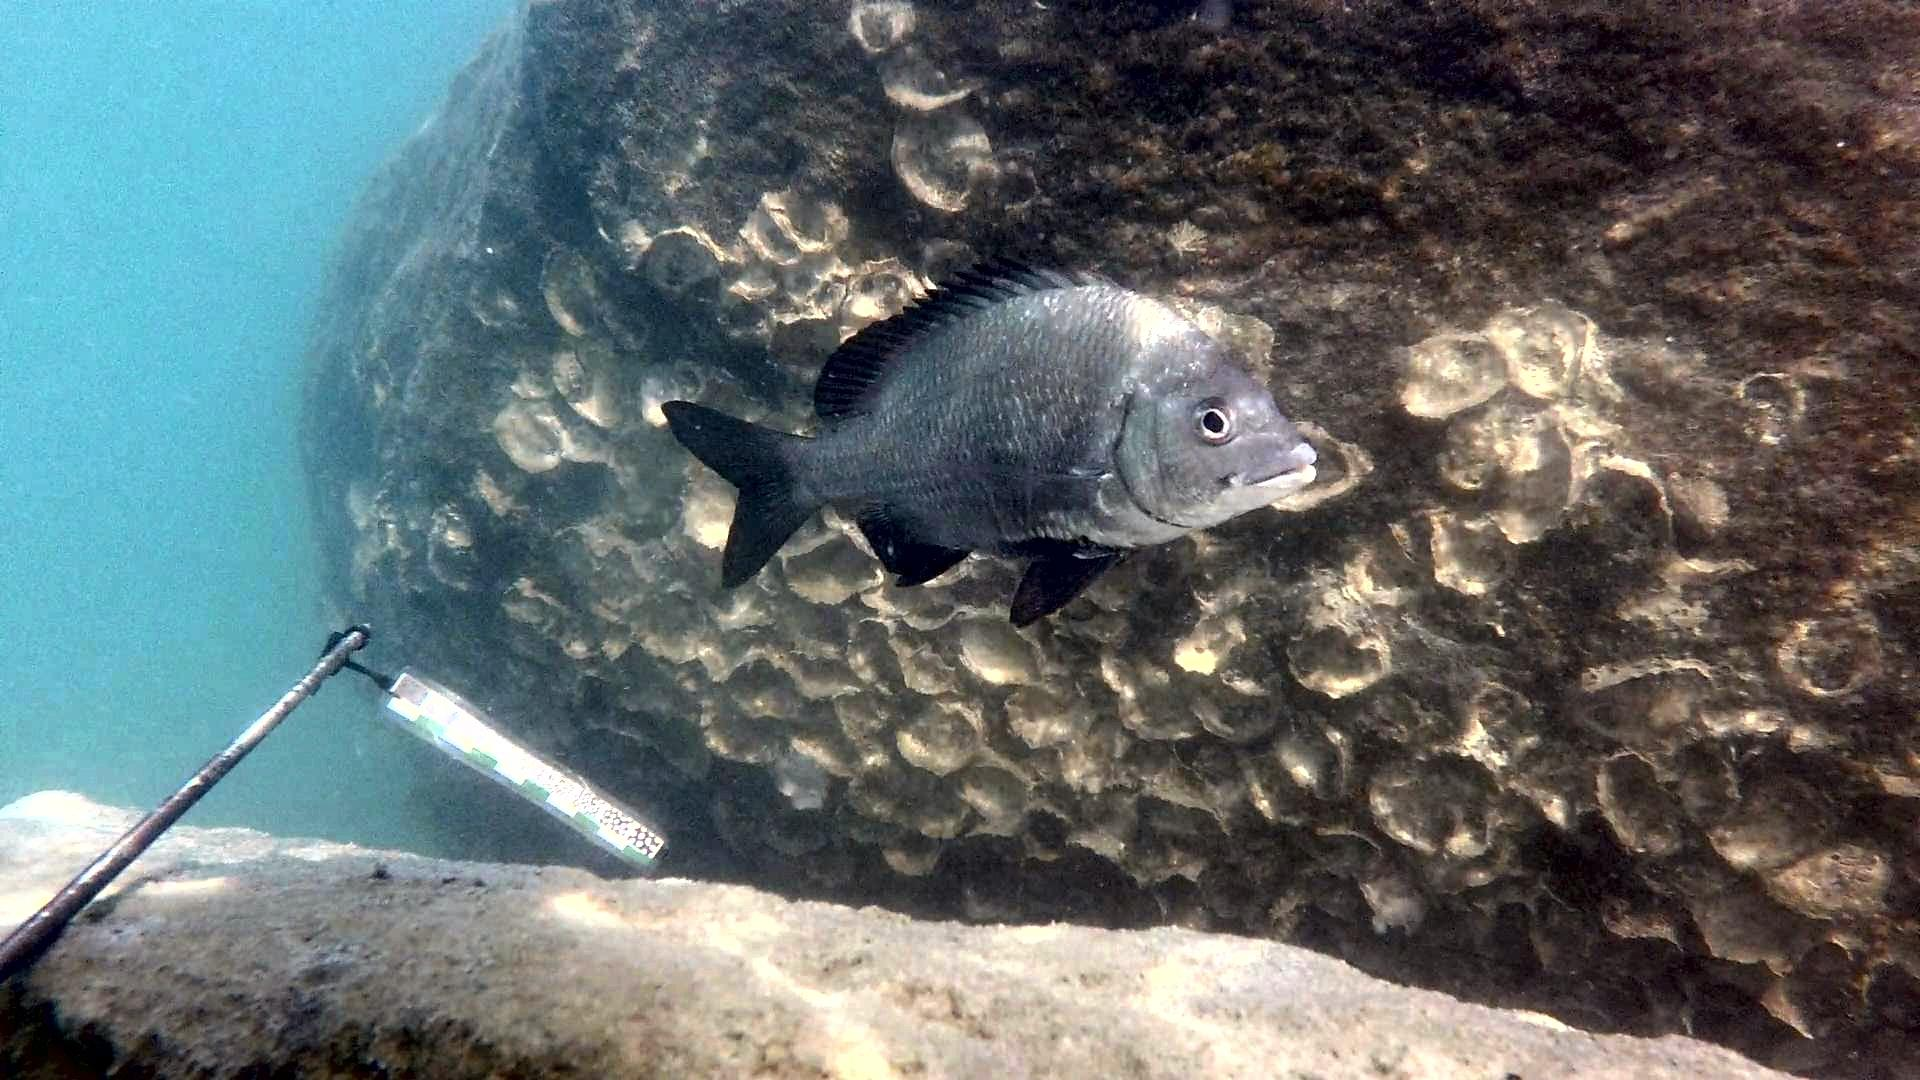acanthopagrus palmaris: (655, 240, 1327, 638)
